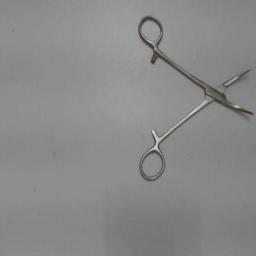Crile Artery Forceps: (136, 12, 254, 184)
